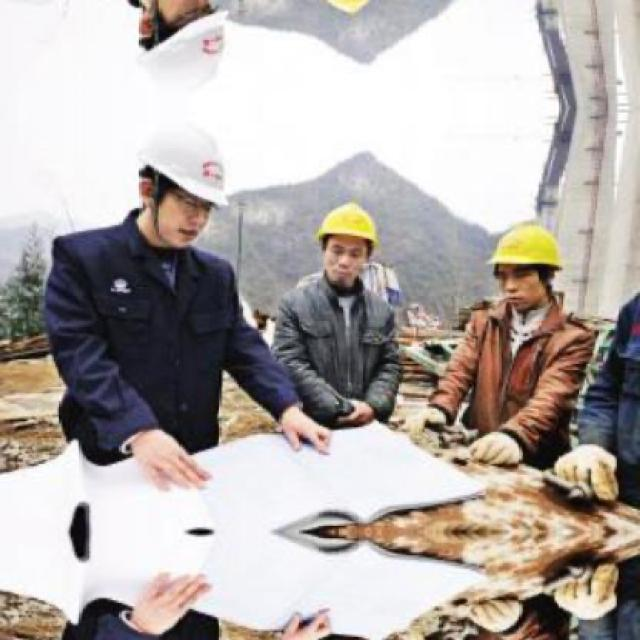con casco: (91, 124, 247, 277), (290, 190, 393, 319), (467, 215, 566, 323)
